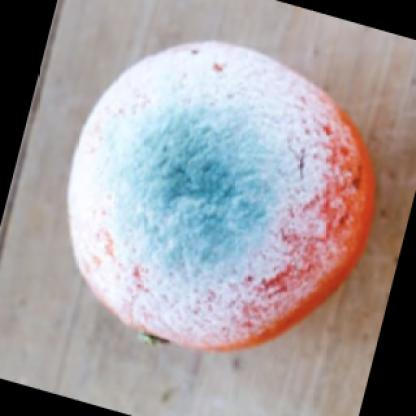rotten: (70, 41, 378, 356)
